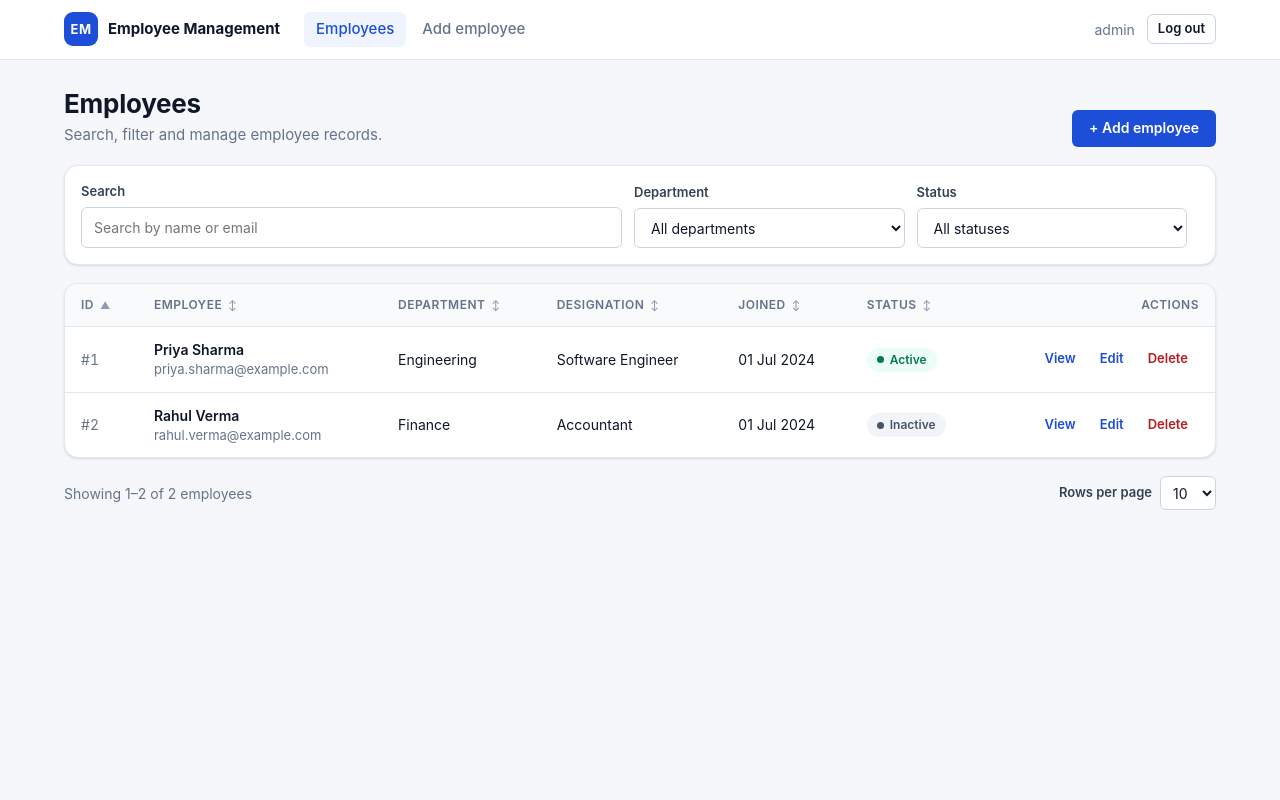
Test case: EmployeeListPage › closes the delete dialog with the Escape key
The image size is (1280, 800).
Expected: the table is shown, [65, 284, 1215, 457]
Click the button with aria-label "Delete Rahul Verma" at (1168, 425), box [1137, 410, 1199, 440]
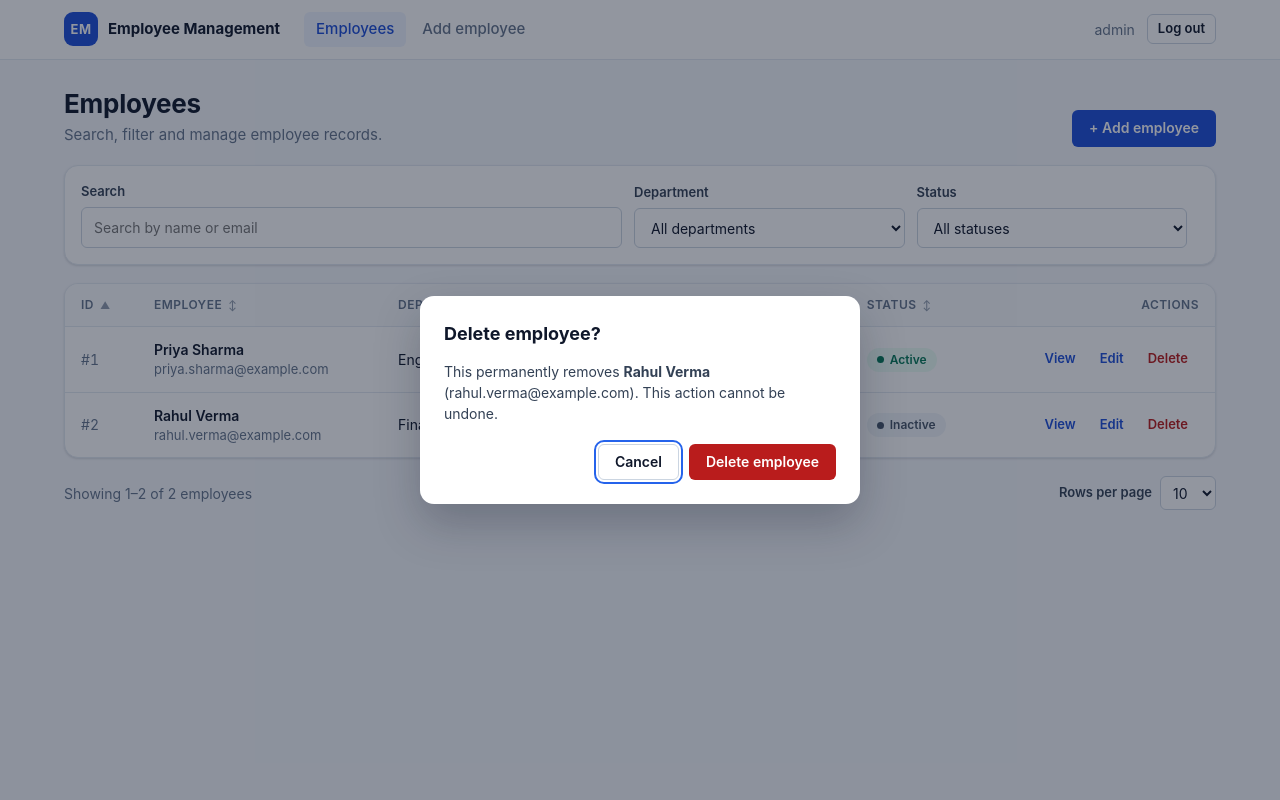
Press Escape
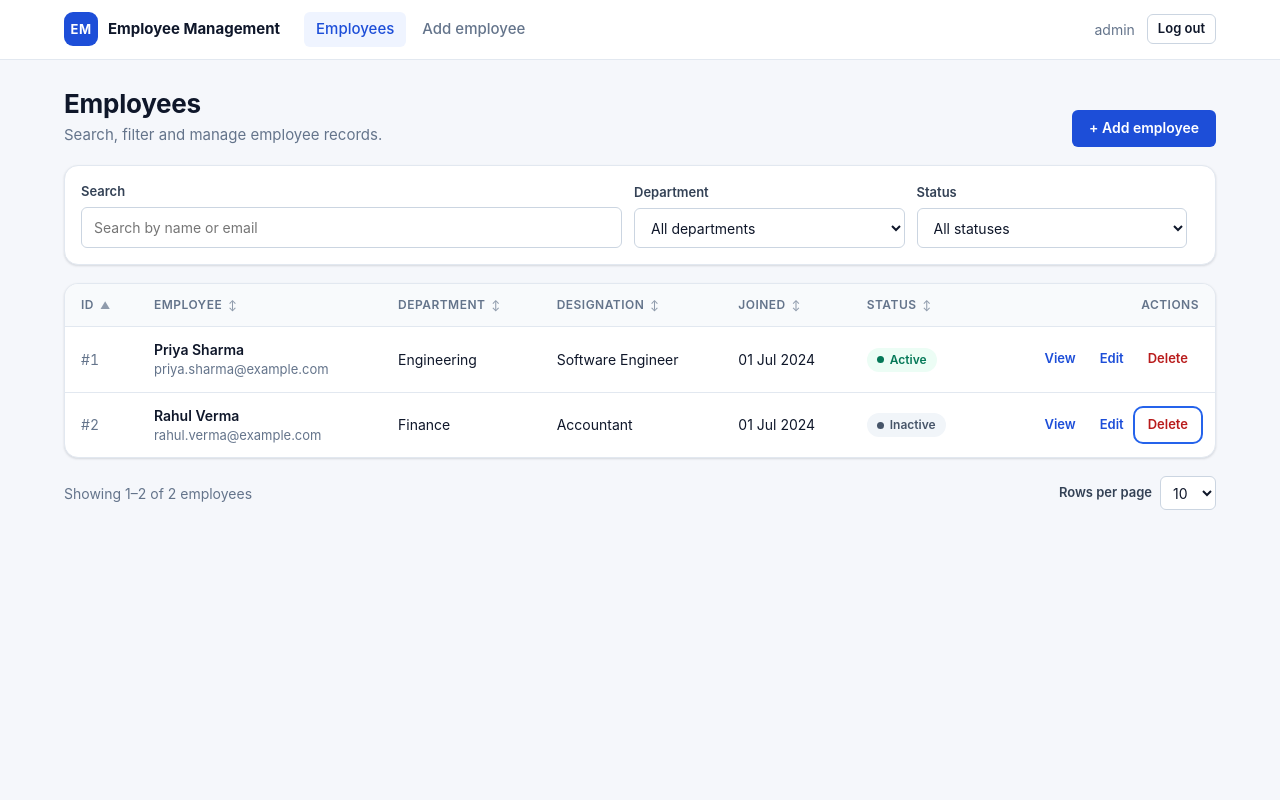
Expected: the dialog is gone
